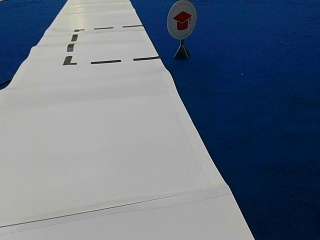school: (166, 2, 197, 38)
